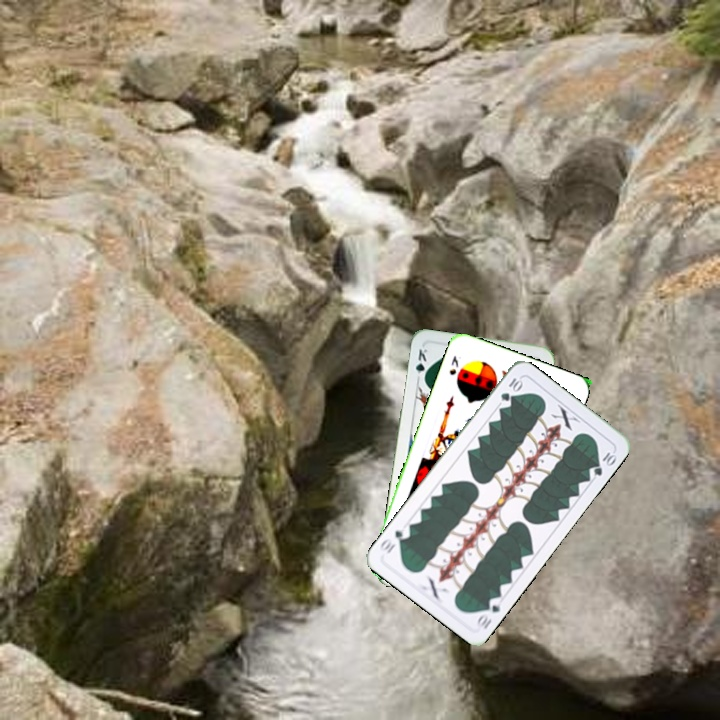G10: (472, 593, 505, 632), (496, 374, 525, 404)
GK: (411, 345, 430, 384)
SK: (445, 352, 461, 378)
